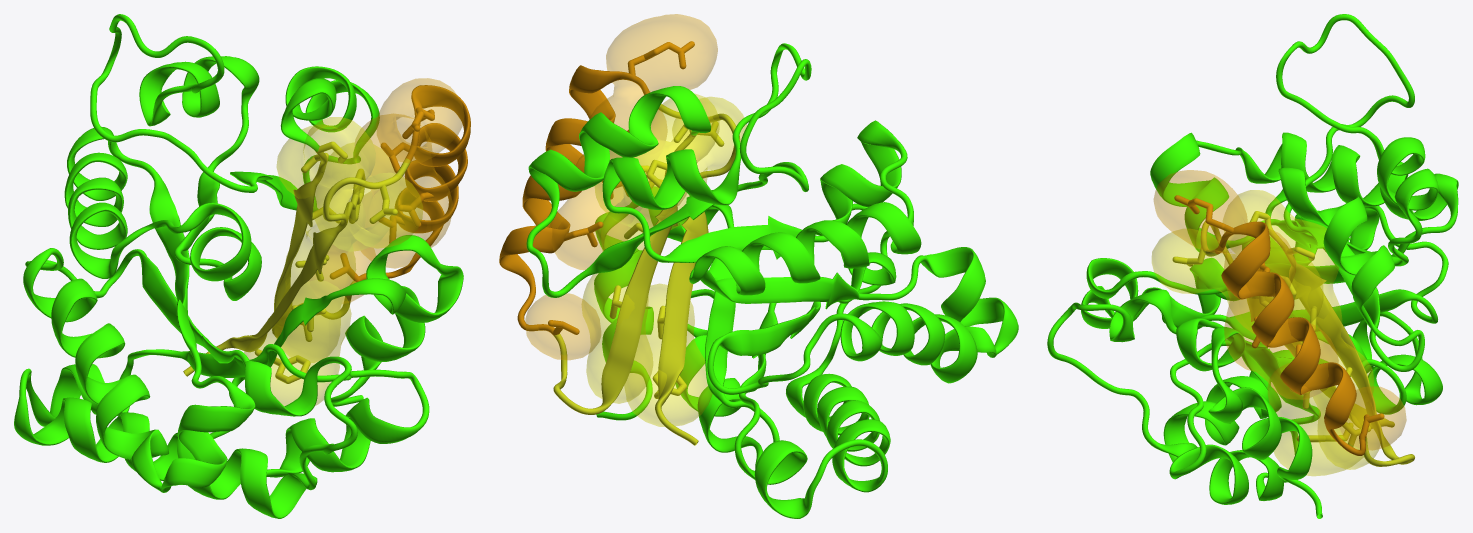
File: beta_alpha_beta_motif_triosephosphate_isomerase.glb
3 views of the same model, side by side, from view 1: azimuth 30°, elevation 25°; view 2: azimuth 150°, elevation 25°; view 3: azimuth 270°, elevation 25° (orthographic). The views are drawn at different scales.
Visible parts, largest first — view 1: Object_2, Object_6, Object_3, Object_4, Object_5; view 2: Object_2, Object_6, Object_3, Object_4, Object_5; view 3: Object_2, Object_6, Object_3, Object_5, Object_4.
Part boxes in pixels (x1,y1,x2,y2): Object_2: [14, 14, 463, 518]; Object_6: [244, 117, 422, 405]; Object_3: [308, 78, 464, 303]; Object_4: [183, 141, 410, 383]; Object_5: [329, 85, 470, 281]; Object_2: [526, 43, 1018, 518]; Object_6: [581, 94, 746, 426]; Object_3: [525, 14, 717, 359]; Object_4: [553, 104, 740, 445]; Object_5: [499, 41, 694, 335]; Object_2: [1047, 14, 1458, 518]; Object_6: [1152, 190, 1380, 475]; Object_3: [1153, 170, 1406, 450]; Object_5: [1174, 195, 1384, 455]; Object_4: [1172, 211, 1414, 466].
Size of the model in its own units: 2.41 by 2.58 by 2.22.
